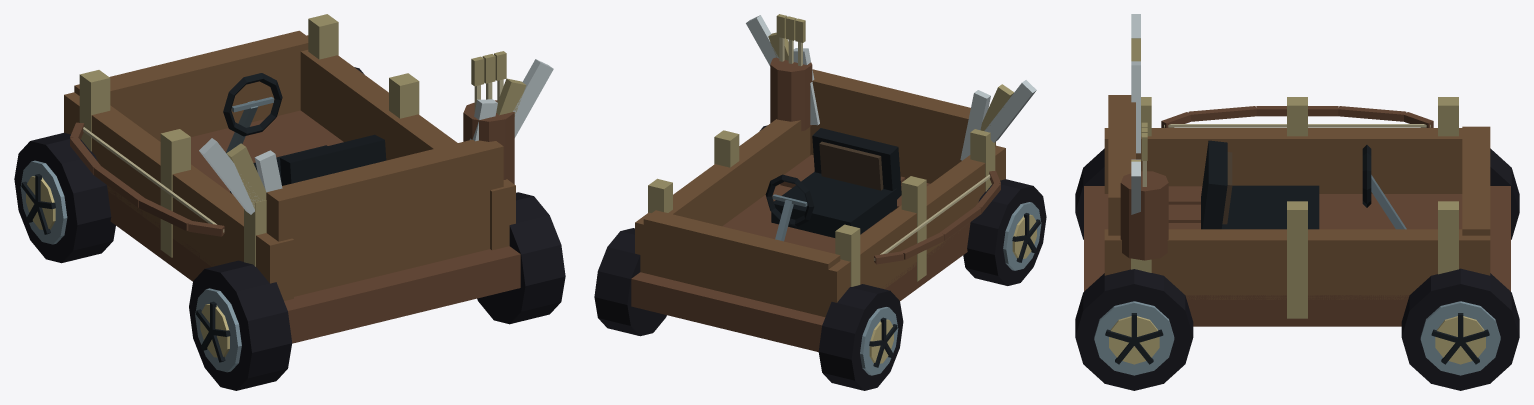
The model's file is kart.glb.
3 renders of one model, left to right at view 1: azimuth 30°, elevation 25°; view 2: azimuth 150°, elevation 25°; view 3: azimuth 270°, elevation 25°, orthographic. The views are drawn at different scales.
Visible parts, largest first — view 1: identity-wagon-wagon-timber-coach, wheel-rear-left, wheel-front-left, wheel-rear-right, identity-wagon-motif-feathers, identity-wagon-driver-cockpit, identity-wagon-motif-quiver, identity-wagon-motif-bow; view 2: identity-wagon-wagon-timber-coach, identity-wagon-driver-cockpit, wheel-front-left, wheel-rear-left, wheel-front-right, identity-wagon-motif-feathers, identity-wagon-motif-quiver, identity-wagon-motif-bow; view 3: identity-wagon-wagon-timber-coach, wheel-front-right, wheel-rear-right, identity-wagon-driver-cockpit, identity-wagon-motif-quiver, identity-wagon-motif-bow, identity-wagon-motif-feathers, wheel-front-left, wheel-rear-left.
Boxes of the visible parts, bbox=[...] form: identity-wagon-wagon-timber-coach: bbox=[64, 14, 520, 343]; wheel-rear-left: bbox=[189, 260, 292, 390]; wheel-front-left: bbox=[14, 133, 115, 263]; wheel-rear-right: bbox=[477, 192, 565, 324]; identity-wagon-motif-feathers: bbox=[199, 59, 553, 214]; identity-wagon-driver-cockpit: bbox=[223, 73, 386, 193]; identity-wagon-motif-quiver: bbox=[463, 51, 514, 184]; identity-wagon-motif-bow: bbox=[70, 122, 224, 236]; identity-wagon-wagon-timber-coach: bbox=[631, 69, 1005, 351]; identity-wagon-driver-cockpit: bbox=[765, 128, 901, 241]; wheel-front-left: bbox=[818, 284, 903, 390]; wheel-rear-left: bbox=[963, 179, 1046, 285]; wheel-front-right: bbox=[594, 228, 666, 336]; identity-wagon-motif-feathers: bbox=[746, 15, 1036, 160]; identity-wagon-motif-quiver: bbox=[770, 14, 812, 131]; identity-wagon-motif-bow: bbox=[874, 171, 1000, 264]; identity-wagon-wagon-timber-coach: bbox=[1084, 95, 1510, 326]; wheel-front-right: bbox=[1401, 268, 1519, 390]; wheel-rear-right: bbox=[1075, 269, 1193, 390]; identity-wagon-driver-cockpit: bbox=[1201, 140, 1406, 229]; identity-wagon-motif-quiver: bbox=[1120, 122, 1168, 260]; identity-wagon-motif-bow: bbox=[1161, 106, 1433, 127]; identity-wagon-motif-feathers: bbox=[1131, 14, 1140, 214]; wheel-front-left: bbox=[1490, 148, 1519, 239]; wheel-rear-left: bbox=[1075, 148, 1104, 239].
Bounding box in the file's own units: 2.18 × 1.54 × 2.56.
